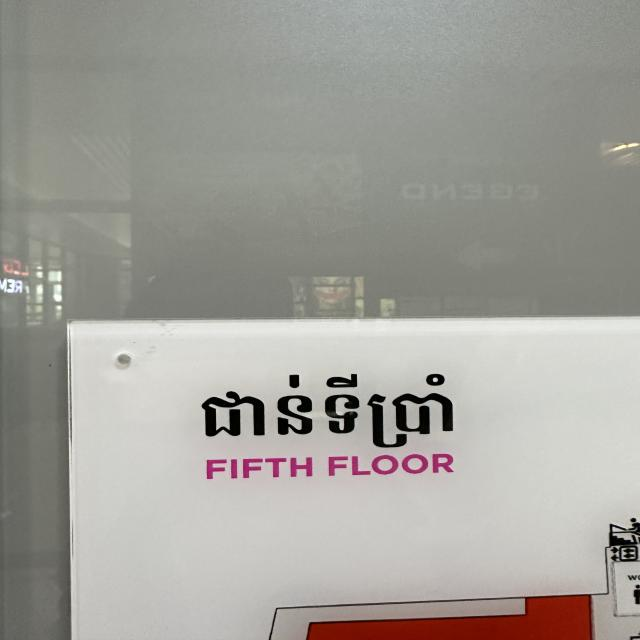Yolov11_80vkh: (184, 366, 468, 441)
